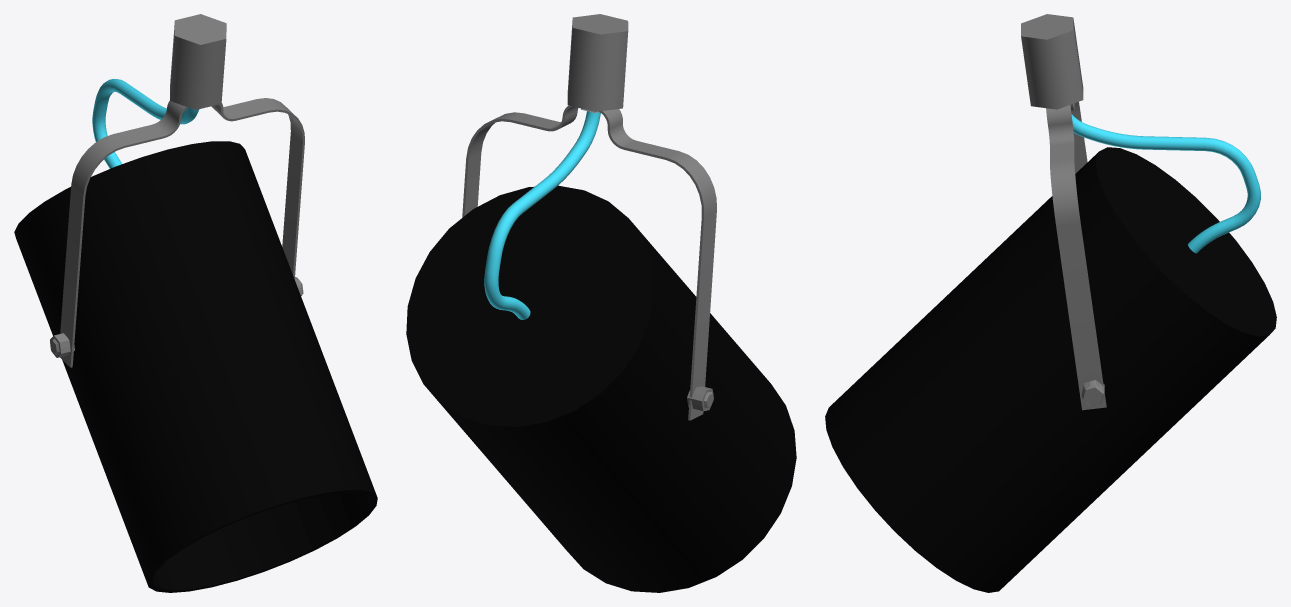
The model's file is lamp11.fbx.
3 renders of one model, left to right at view 1: azimuth 30°, elevation 25°; view 2: azimuth 150°, elevation 25°; view 3: azimuth 270°, elevation 25°, orthographic. The views are drawn at different scales.
Visible parts, largest first — view 1: Cylinder001, Rectangle001, Cylinder002, Line002, Star001; view 2: Cylinder001, Rectangle001, Cylinder002, Line002, Star001; view 3: Cylinder001, Rectangle001, Cylinder002, Line002.
Part boxes in pixels (box(x1,y1,x2,y2)): Cylinder001: box(14, 141, 377, 592); Rectangle001: box(60, 98, 304, 367); Cylinder002: box(170, 14, 226, 109); Line002: box(92, 79, 199, 168); Star001: box(50, 276, 303, 357); Cylinder001: box(406, 185, 796, 592); Rectangle001: box(462, 105, 716, 420); Cylinder002: box(567, 14, 628, 112); Line002: box(484, 111, 600, 319); Star001: box(687, 386, 713, 411); Cylinder001: box(825, 147, 1276, 592); Rectangle001: box(1046, 102, 1106, 410); Cylinder002: box(1021, 14, 1083, 109); Line002: box(1071, 114, 1260, 253).
Bounding box in the file's own units: 150 × 317 × 234.
